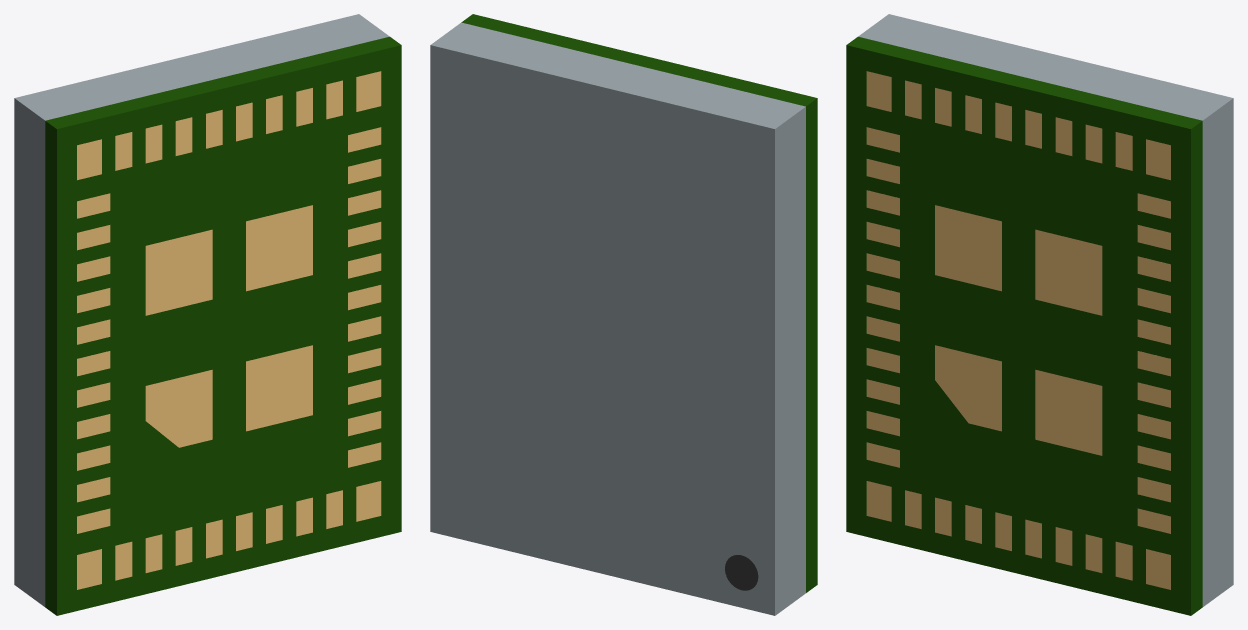
File: sfe-lbee5kl1yn.glb
3 views of the same model, side by side, from view 1: azimuth 30°, elevation 25°; view 2: azimuth 150°, elevation 25°; view 3: azimuth 330°, elevation 25° (orthographic).
Parts seen in each view (by area): view 1: 0_0.08333333333333333_0_0, 1_0.5833333333333334_0.25_0, 0.3333333333333333_0.4166666666666667_0.4166666666666667_0; view 2: 0.3333333333333333_0.4166666666666667_0.4166666666666667_0, 0_0.08333333333333333_0_0, 0.08333333333333333_0.08333333333333333_0.08333333333333333_; view 3: 0_0.08333333333333333_0_0, 1_0.5833333333333334_0.25_0, 0.3333333333333333_0.4166666666666667_0.4166666666666667_0.
Boxes of the visible parts, x1,y1,x2,y2 form: 0_0.08333333333333333_0_0: (45, 36, 401, 615); 1_0.5833333333333334_0.25_0: (77, 71, 381, 589); 0.3333333333333333_0.4166666666666667_0.4166666666666667_0: (14, 14, 389, 606); 0.3333333333333333_0.4166666666666667_0.4166666666666667_0: (430, 22, 805, 615); 0_0.08333333333333333_0_0: (461, 14, 817, 592); 0.08333333333333333_0.08333333333333333_0.08333333333333333_: (725, 555, 758, 590); 0_0.08333333333333333_0_0: (846, 36, 1202, 615); 1_0.5833333333333334_0.25_0: (866, 71, 1170, 589); 0.3333333333333333_0.4166666666666667_0.4166666666666667_0: (858, 14, 1233, 606).
Size of the model in its own units: 0.515 by 0.695 by 0.11.
